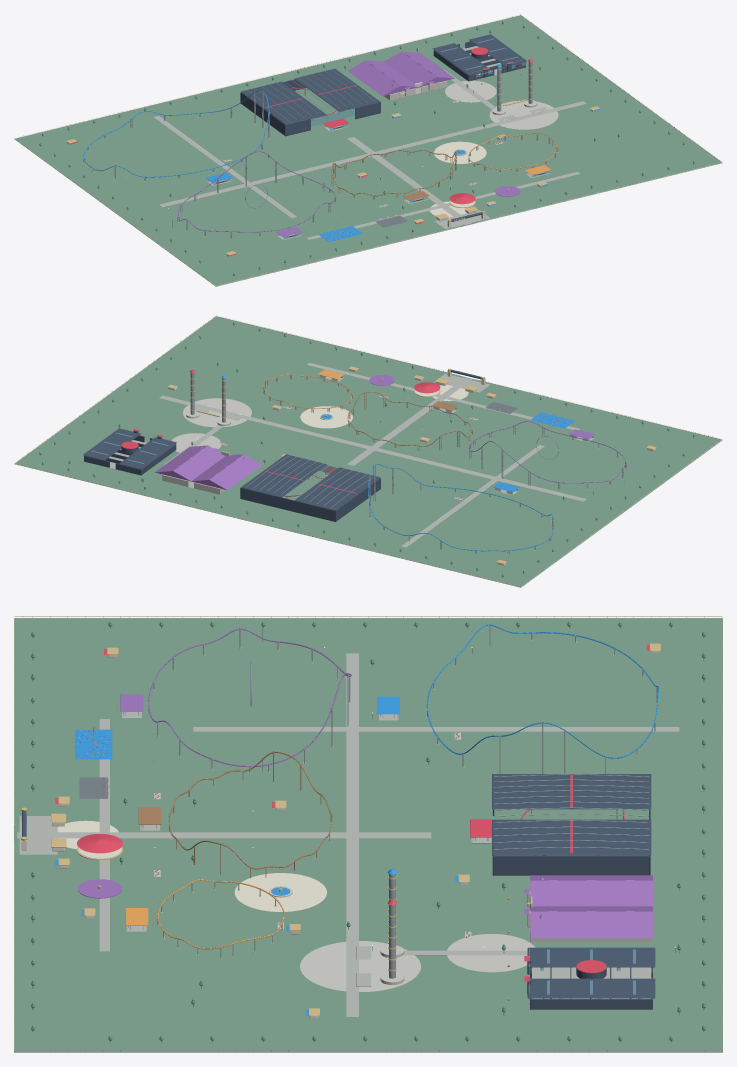
The model's file is amusement-park.glb.
3 renders of one model, top to bottom at view 1: azimuth 30°, elevation 25°; view 2: azimuth 150°, elevation 25°; view 3: azimuth 270°, elevation 25°, orthographic. The views are drawn at different scales.
Parts seen in each view (by area): view 1: Park lawn foundation, Runtime merged dark, Runtime merged paving, Runtime merged stone, Runtime merged purple, Runtime merged steel, Runtime merged cream, Runtime merged glass, Runtime merged red, Runtime merged blue, Runtime merged gold, Runtime merged leaf (+2 smaller); view 2: Park lawn foundation, Runtime merged dark, Runtime merged paving, Runtime merged stone, Runtime merged purple, Runtime merged cream, Runtime merged steel, Runtime merged blue, Runtime merged gold, Runtime merged red, Runtime merged leaf, Runtime merged wood (+1 smaller); view 3: Park lawn foundation, Runtime merged dark, Runtime merged paving, Runtime merged stone, Runtime merged purple, Runtime merged cream, Runtime merged steel, Runtime merged red, Runtime merged blue, Runtime merged gold, Runtime merged leaf, Runtime merged wood (+4 smaller).
Part boxes in pixels (bbox=[...]): Park lawn foundation: bbox=[14, 15, 722, 286]; Runtime merged dark: bbox=[216, 34, 545, 237]; Runtime merged paving: bbox=[154, 46, 586, 239]; Runtime merged stone: bbox=[15, 15, 722, 285]; Runtime merged purple: bbox=[224, 51, 520, 240]; Runtime merged steel: bbox=[17, 14, 719, 285]; Runtime merged cream: bbox=[67, 82, 598, 256]; Runtime merged glass: bbox=[72, 38, 597, 256]; Runtime merged red: bbox=[70, 47, 533, 256]; Runtime merged blue: bbox=[206, 64, 600, 241]; Runtime merged gold: bbox=[66, 67, 599, 255]; Runtime merged leaf: bbox=[39, 21, 694, 275]; Park lawn foundation: bbox=[14, 316, 722, 587]; Runtime merged dark: bbox=[83, 369, 593, 521]; Runtime merged paving: bbox=[109, 363, 593, 547]; Runtime merged stone: bbox=[15, 316, 721, 587]; Runtime merged purple: bbox=[155, 375, 595, 499]; Runtime merged cream: bbox=[168, 369, 655, 565]; Runtime merged steel: bbox=[17, 315, 719, 586]; Runtime merged blue: bbox=[172, 366, 575, 491]; Runtime merged gold: bbox=[167, 366, 656, 563]; Runtime merged red: bbox=[121, 369, 657, 561]; Runtime merged leaf: bbox=[39, 322, 694, 576]; Runtime merged wood: bbox=[40, 325, 693, 577]; Park lawn foundation: bbox=[14, 618, 722, 1052]; Runtime merged dark: bbox=[22, 648, 675, 1009]; Runtime merged paving: bbox=[17, 653, 679, 1016]; Runtime merged stone: bbox=[15, 618, 721, 1052]; Runtime merged purple: bbox=[77, 694, 652, 937]; Runtime merged cream: bbox=[21, 650, 659, 1018]; Runtime merged steel: bbox=[14, 617, 722, 1051]; Runtime merged red: bbox=[55, 644, 650, 1003]; Runtime merged blue: bbox=[55, 696, 459, 1015]; Runtime merged gold: bbox=[21, 643, 660, 1015]; Runtime merged leaf: bbox=[31, 621, 705, 1040]; Runtime merged wood: bbox=[32, 626, 704, 1042].
Size of the model in its own units: 1290 by 116 by 890.
